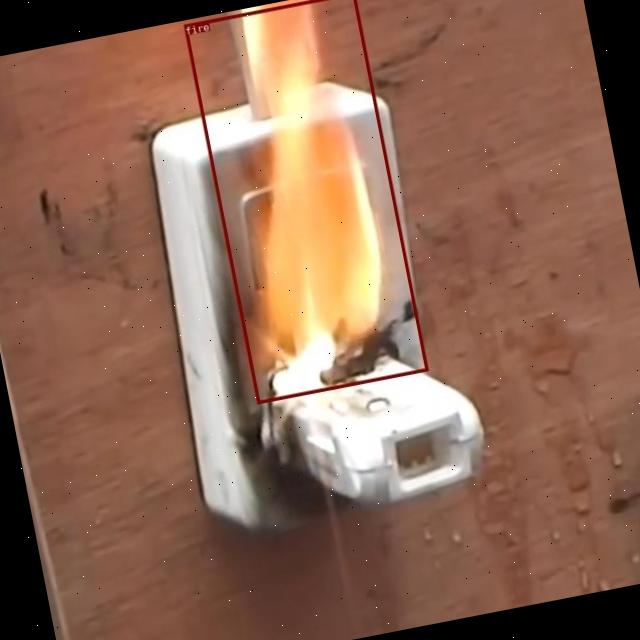fire: (183, 0, 427, 403)
